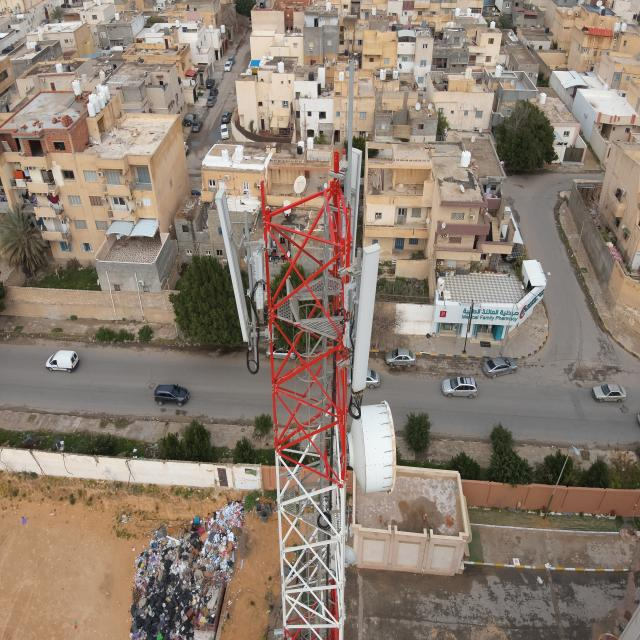Ground Based: (205, 48, 405, 640)
